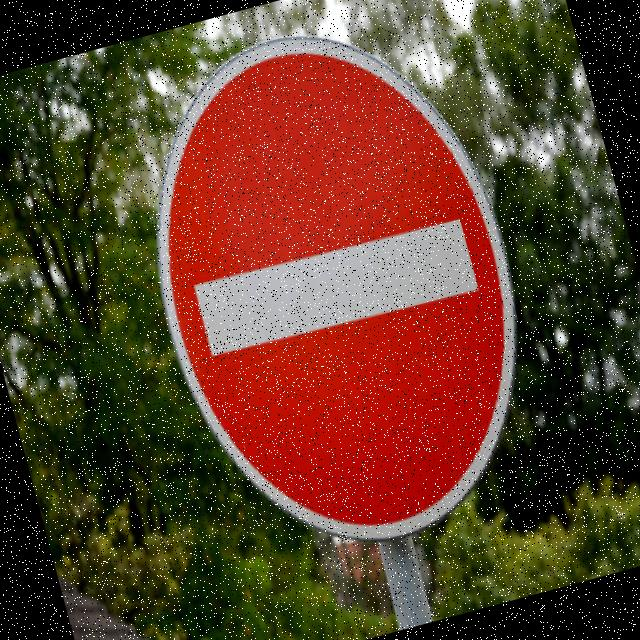do_not_enter: (98, 0, 568, 585)
